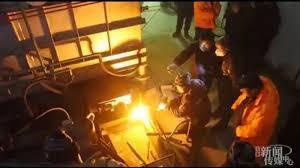fire: (229, 76, 277, 139), (114, 91, 157, 128)
